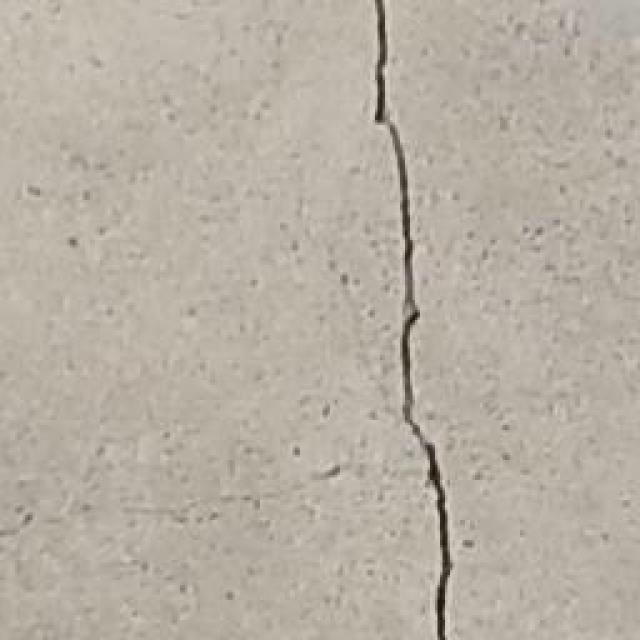concrete-crack: (372, 0, 450, 640)
